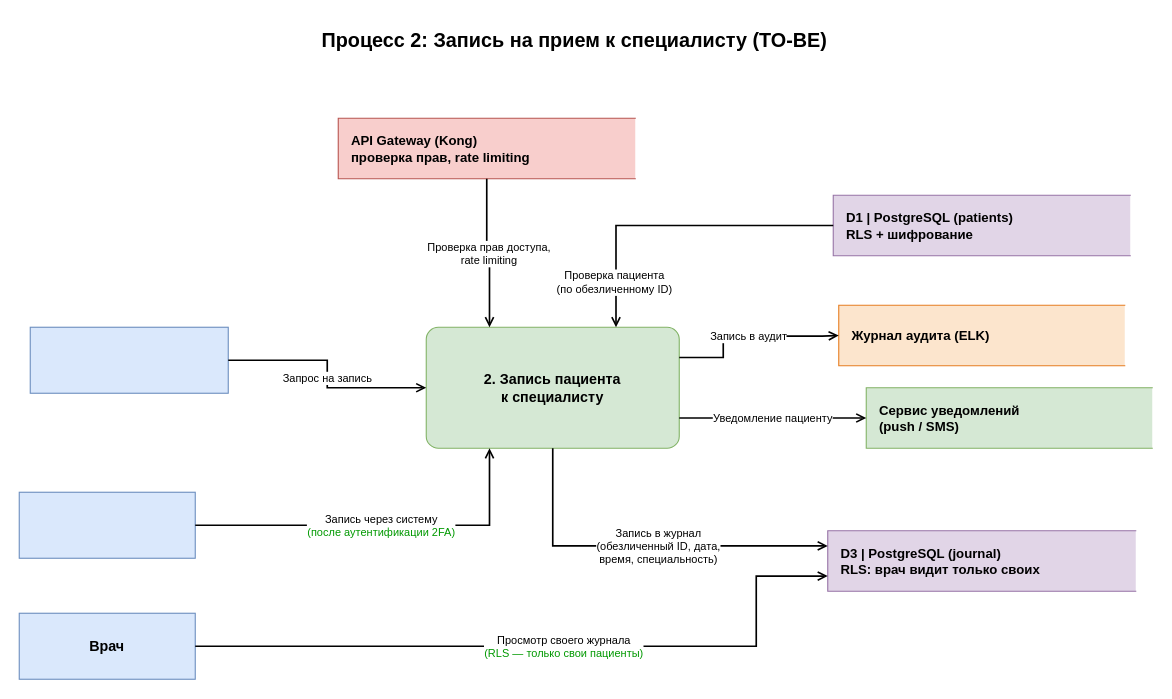
Image size: 1172x699. Some labels were removed from this diagram. Each missing label, with the centre of its shape:
"Администратор" goes at point (106, 524).
"Пациент (ЛК / моб. приложение)" goes at point (128, 359).
